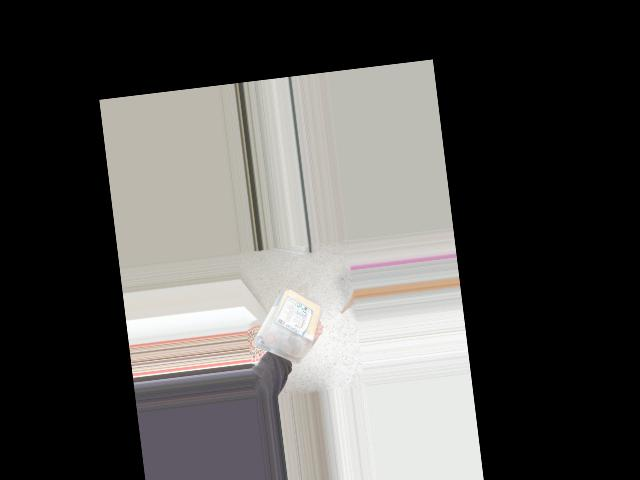cheese: (275, 285, 319, 354)
